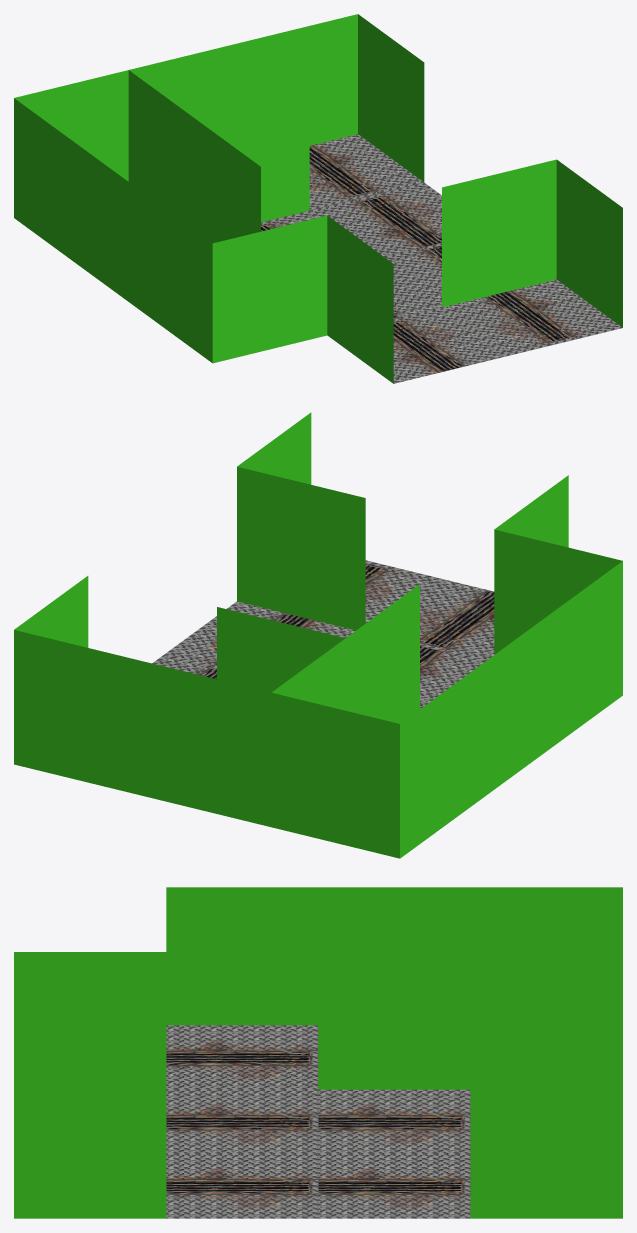
Rendered from Lab.fbx.
3 renders of one model, top to bottom at view 1: azimuth 30°, elevation 25°; view 2: azimuth 150°, elevation 25°; view 3: azimuth 270°, elevation 25°, orthographic. The views are drawn at different scales.
Parts seen in each view (by area): view 1: FloorTile2.001; view 2: FloorTile2.001; view 3: FloorTile2.001.
Part boxes in pixels (left/top/right/bottom): FloorTile2.001: left=14, top=14, right=622, bottom=383; FloorTile2.001: left=14, top=412, right=622, bottom=858; FloorTile2.001: left=14, top=887, right=622, bottom=1218.
Bounding box in the file's own units: 1800 × 600 × 2400.
